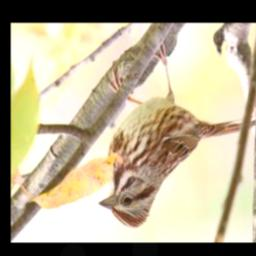Sparrow: (95, 40, 256, 231)
